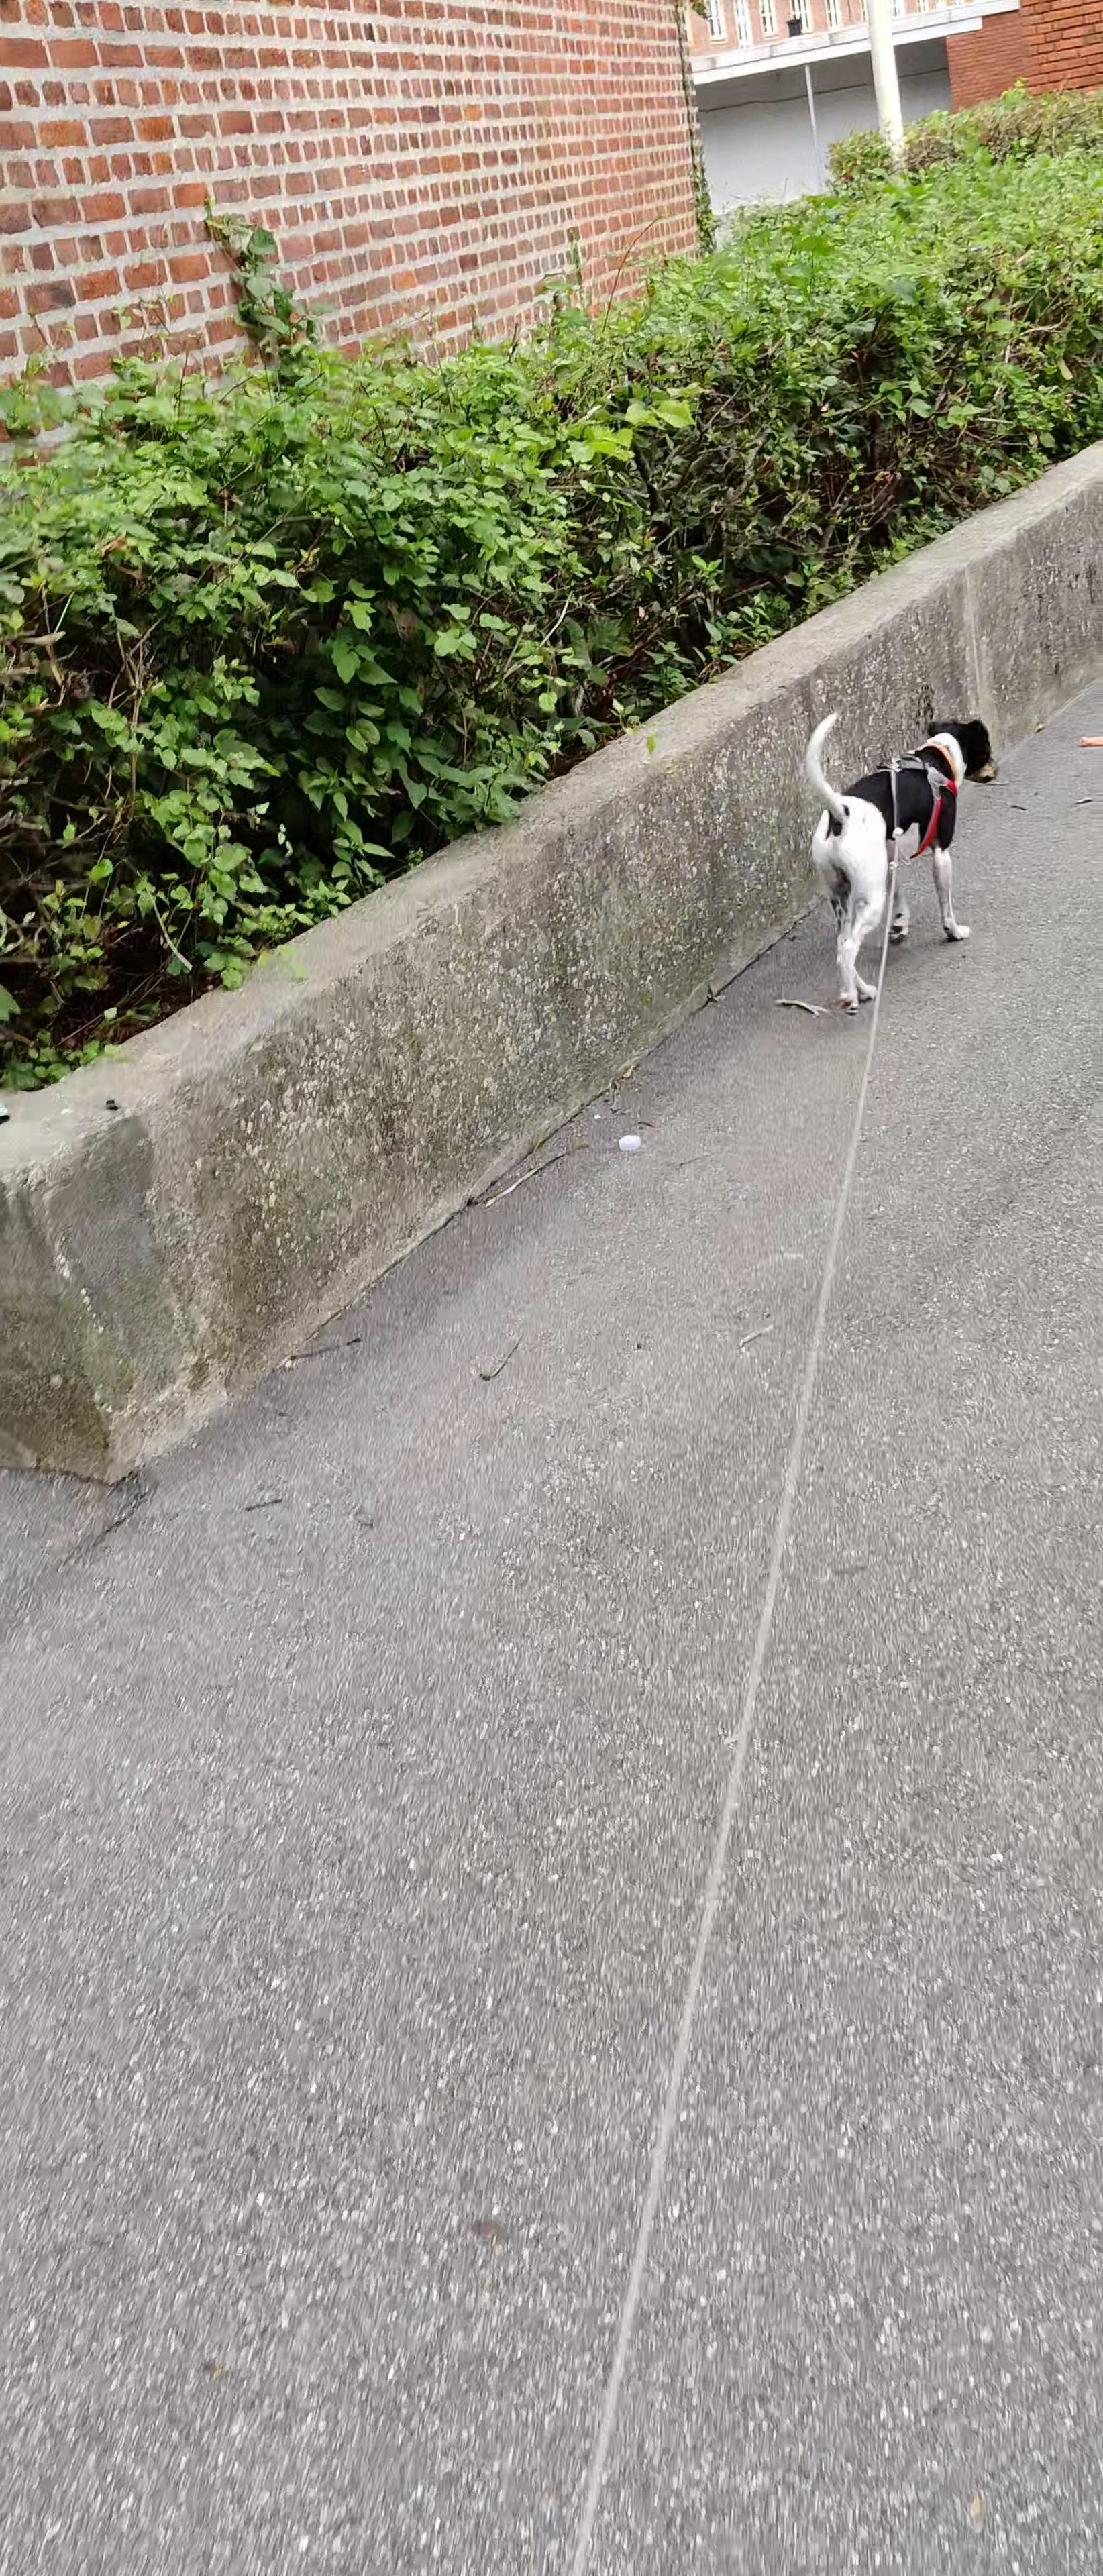Dog: (801, 705, 1001, 1015)
